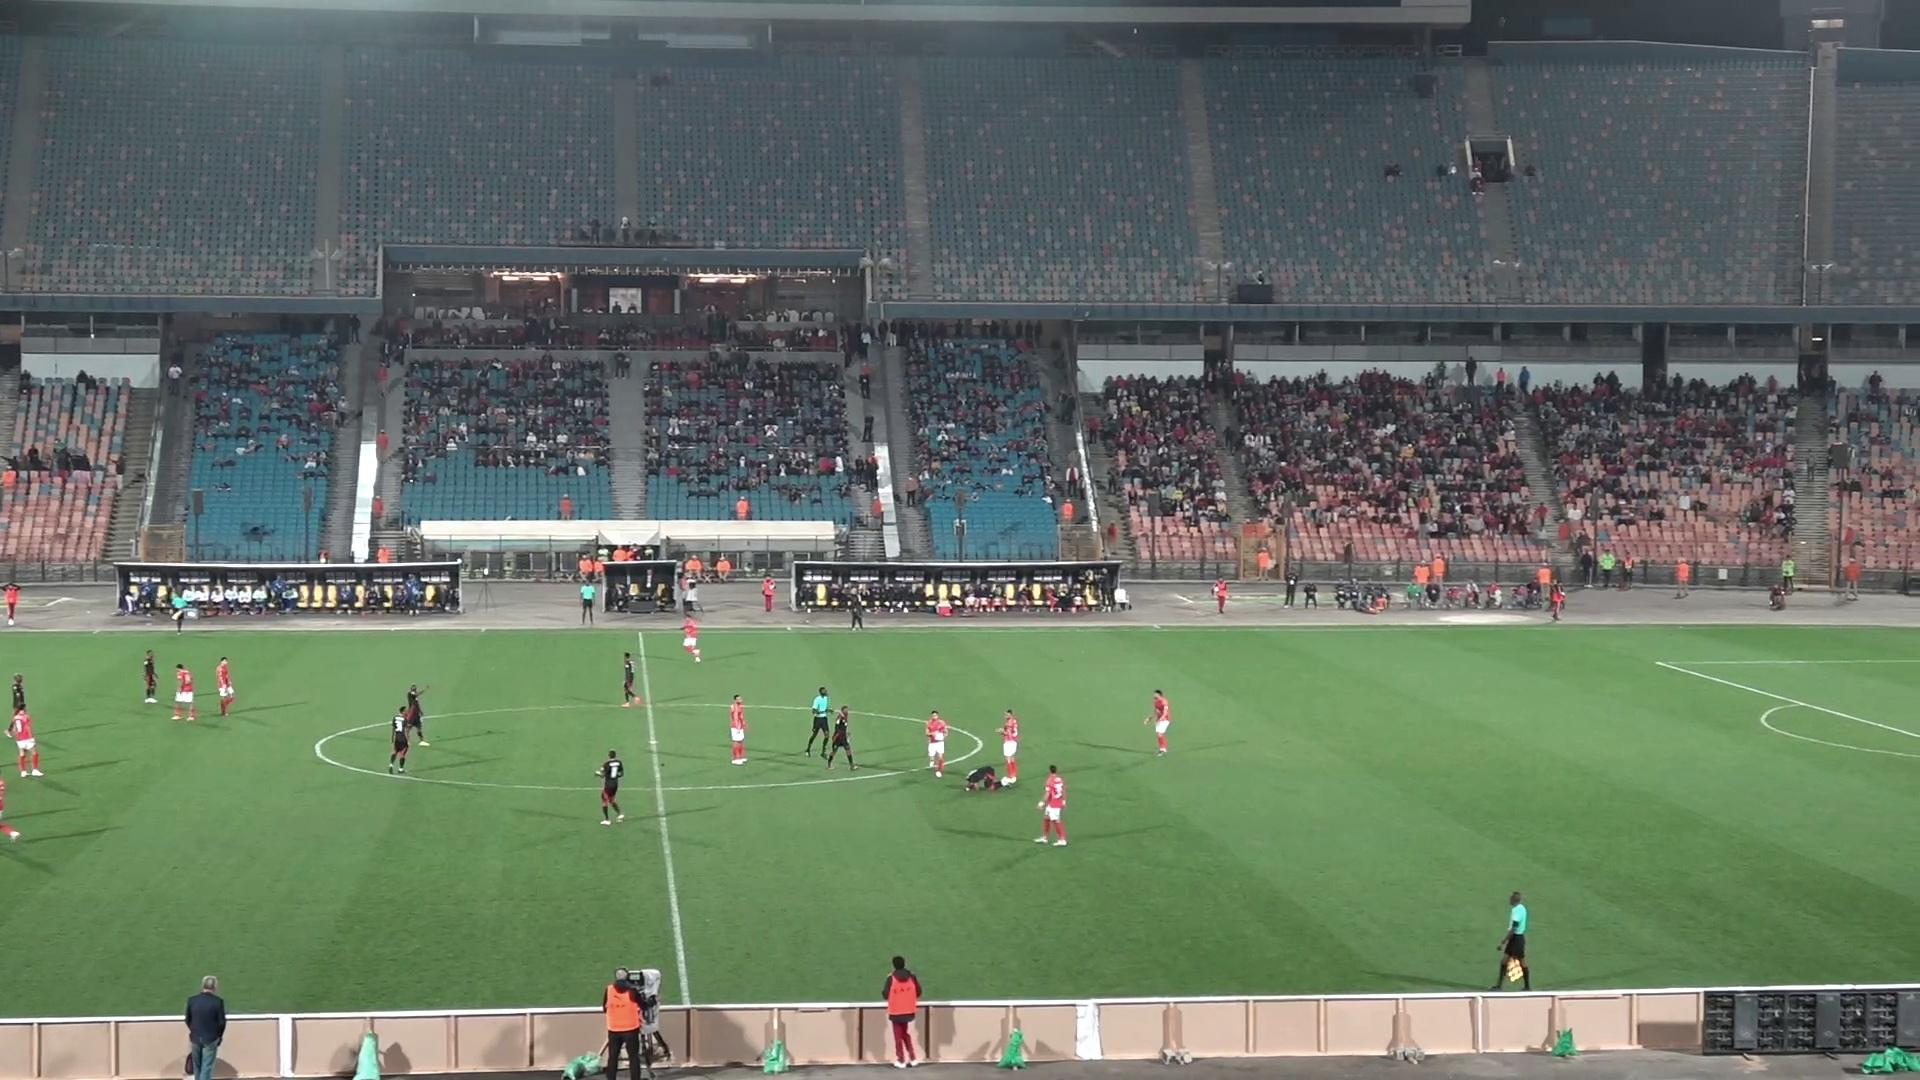Refree: (1495, 891, 1530, 989), (800, 686, 837, 757), (579, 574, 599, 626), (171, 591, 190, 632)
Team1: (1034, 765, 1068, 845), (7, 705, 44, 777), (1143, 688, 1174, 756), (924, 712, 952, 777), (997, 709, 1021, 775), (728, 694, 749, 765), (214, 657, 236, 716), (173, 665, 196, 720), (0, 777, 18, 843), (680, 615, 700, 662)
Team2: (595, 749, 626, 825), (392, 684, 430, 746), (824, 705, 858, 770), (386, 705, 413, 773), (620, 651, 649, 705), (963, 765, 1002, 791), (141, 650, 160, 703), (11, 673, 26, 713)
